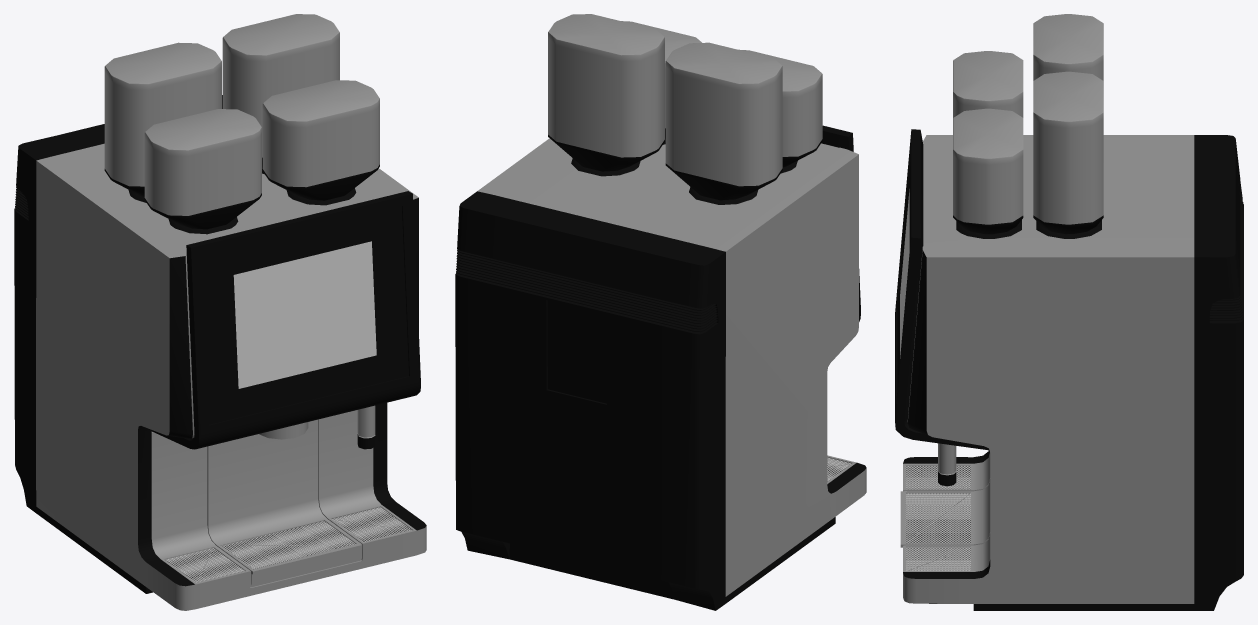
File: kitchen_coffee_machine.FBX
3 renders of one model, left to right at view 1: azimuth 30°, elevation 25°; view 2: azimuth 150°, elevation 25°; view 3: azimuth 270°, elevation 25°, orthographic.
Parts seen in each view (by area): view 1: kitchen_coffee_machine; view 2: kitchen_coffee_machine; view 3: kitchen_coffee_machine.
Part boxes in pixels (x1,y1,x2,y2): kitchen_coffee_machine: [14, 14, 426, 610]; kitchen_coffee_machine: [455, 14, 866, 610]; kitchen_coffee_machine: [895, 14, 1243, 610].
Size of the model in its own units: 53.42 by 98.41 by 64.58.
